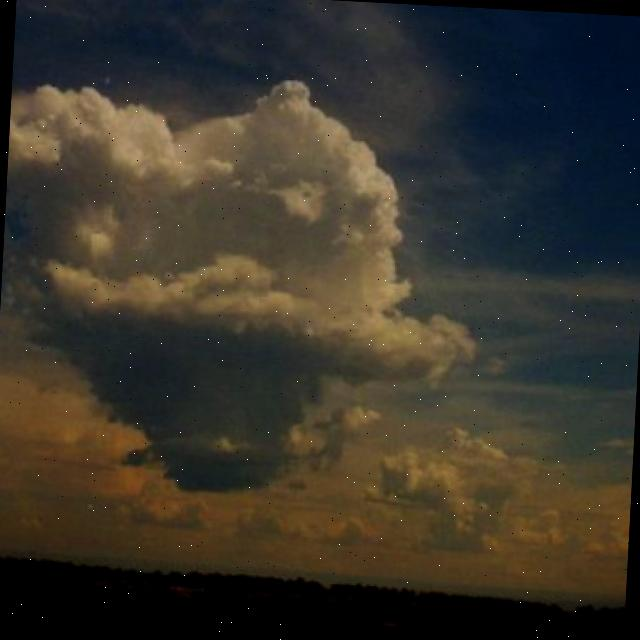Cs: (1, 1, 640, 528)
